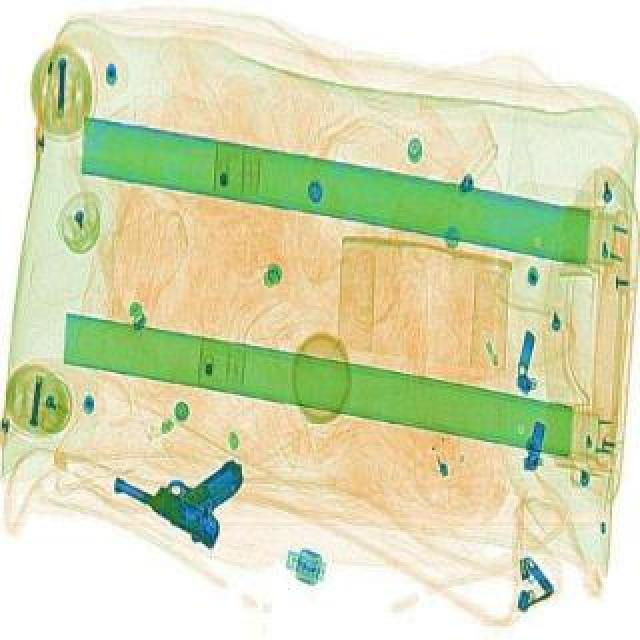gun: (102, 436, 246, 546)
